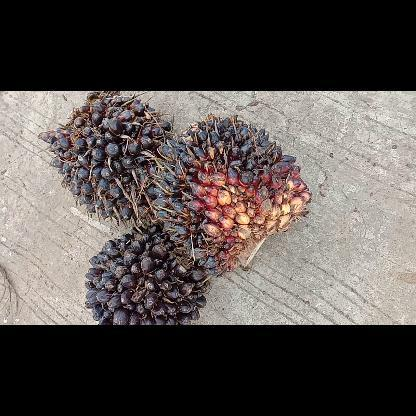TBS mentah: (142, 113, 316, 277), (34, 90, 178, 224), (82, 223, 212, 324)
